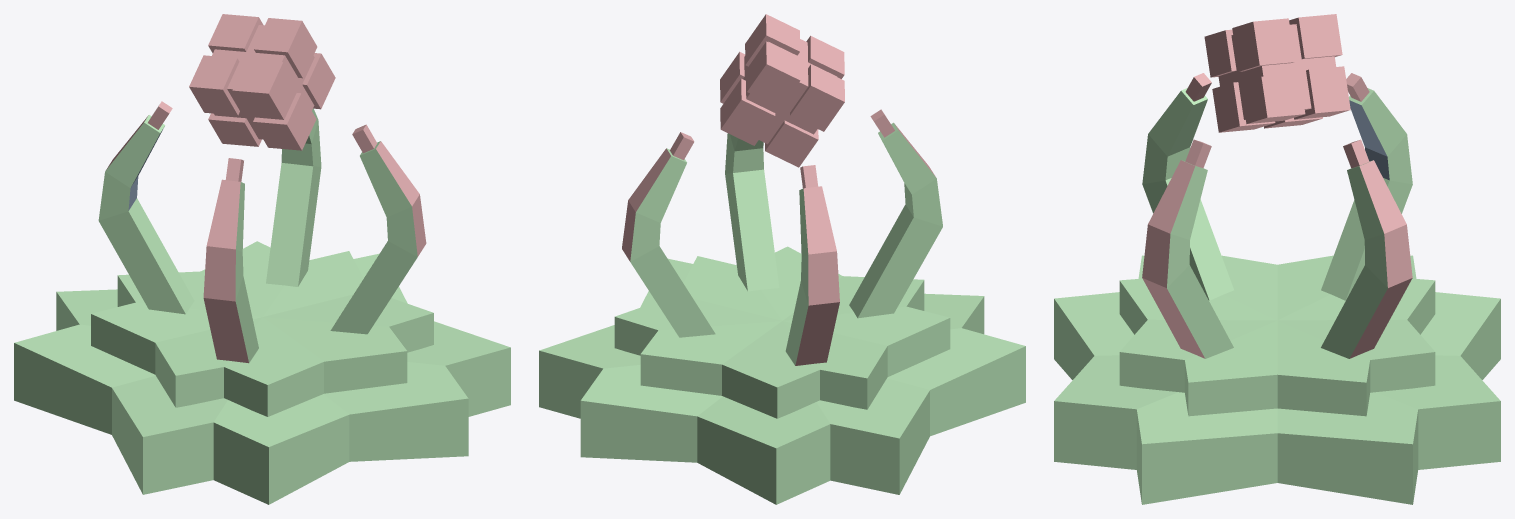
Rendered from TorreNormalAVC2.fbx.
The picture shows the model from 3 angles, left to right: view 1: azimuth 30°, elevation 25°; view 2: azimuth 150°, elevation 25°; view 3: azimuth 270°, elevation 25°; orthographic projection. The views are drawn at different scales.
Visible parts, largest first — view 1: Torre, Base; view 2: Torre, Base; view 3: Torre, Base.
Part boxes in pixels (x1,y1,x2,y2): Torre: (14, 101, 510, 504); Base: (189, 14, 335, 150); Torre: (539, 109, 1025, 504); Base: (720, 14, 844, 167); Torre: (1054, 73, 1500, 504); Base: (1204, 14, 1350, 132).
Size of the model in its own units: 440 by 438 by 440.
